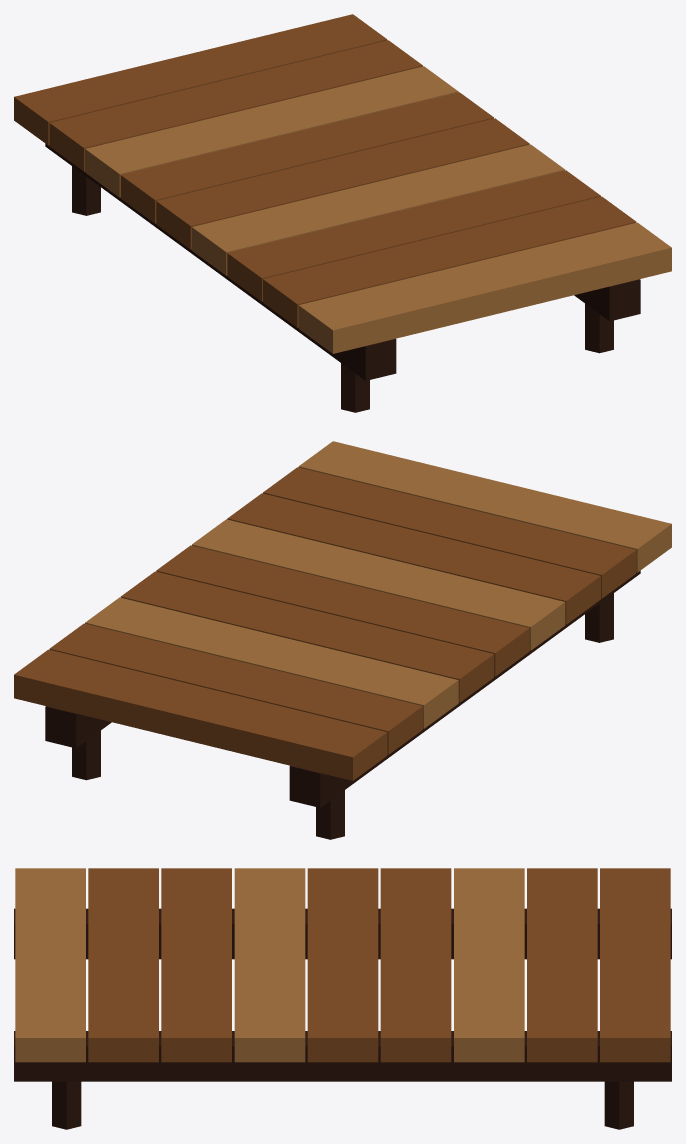
The model's file is Extra_Dock_01.fbx.
The picture shows the model from 3 angles, top to bottom: view 1: azimuth 30°, elevation 25°; view 2: azimuth 150°, elevation 25°; view 3: azimuth 270°, elevation 25°; orthographic projection. The views are drawn at different scales.
Parts seen in each view (by area): view 1: Extra_Dock_01_Mesh; view 2: Extra_Dock_01_Mesh; view 3: Extra_Dock_01_Mesh.
Part boxes in pixels (<box>): Extra_Dock_01_Mesh: <box>14,14,671,412</box>; Extra_Dock_01_Mesh: <box>14,441,671,839</box>; Extra_Dock_01_Mesh: <box>14,868,671,1129</box>.
Size of the model in its own units: 1.65 by 0.49 by 2.7.
Materials: 1 (1 with a texture image).
